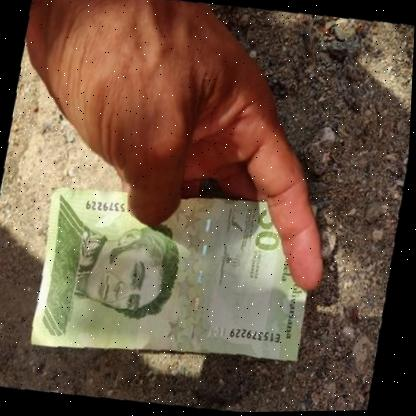fifty-front-vef: (23, 165, 331, 386)
